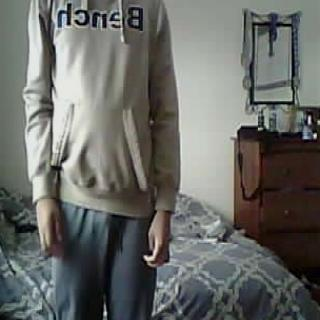Blue Sweatpants: (45, 206, 161, 320)
Yellow Hoodie: (18, 0, 179, 205)
